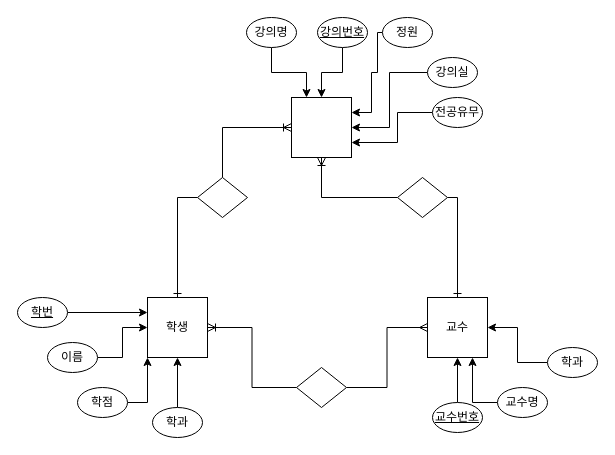
Some shapes in this 615 by 455 pixel diagram are drawn without their labels. The shapes that lost their labels are listed below. From the top down, each one's centre as x and y in pixels, then its label:
(x=321, y=127): 수강과목
(x=222, y=197): 수강
(x=422, y=197): 등록
(x=321, y=387): 평가
